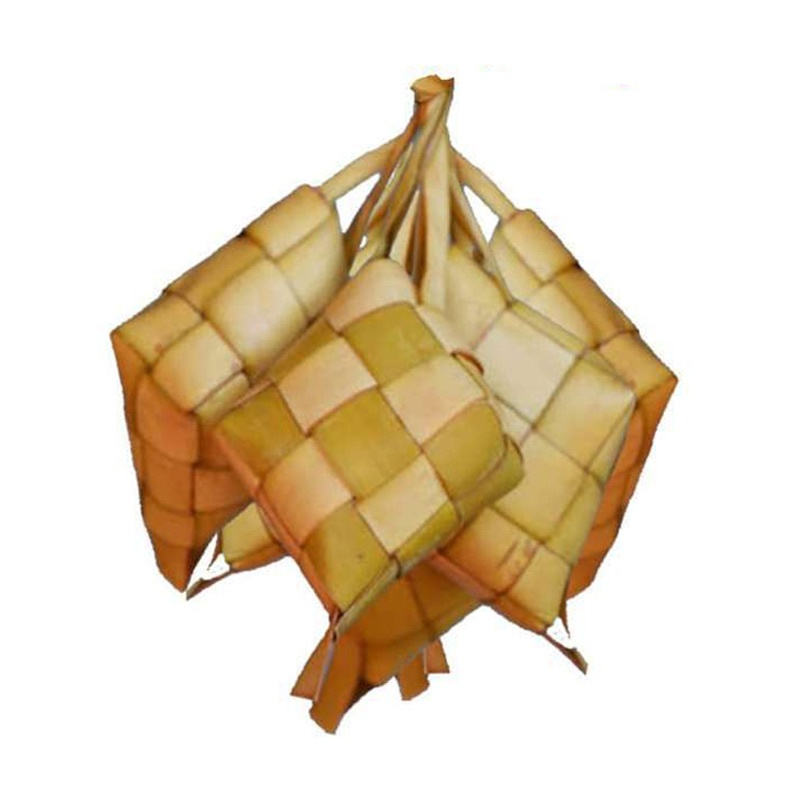ketupat: (211, 253, 527, 620)
